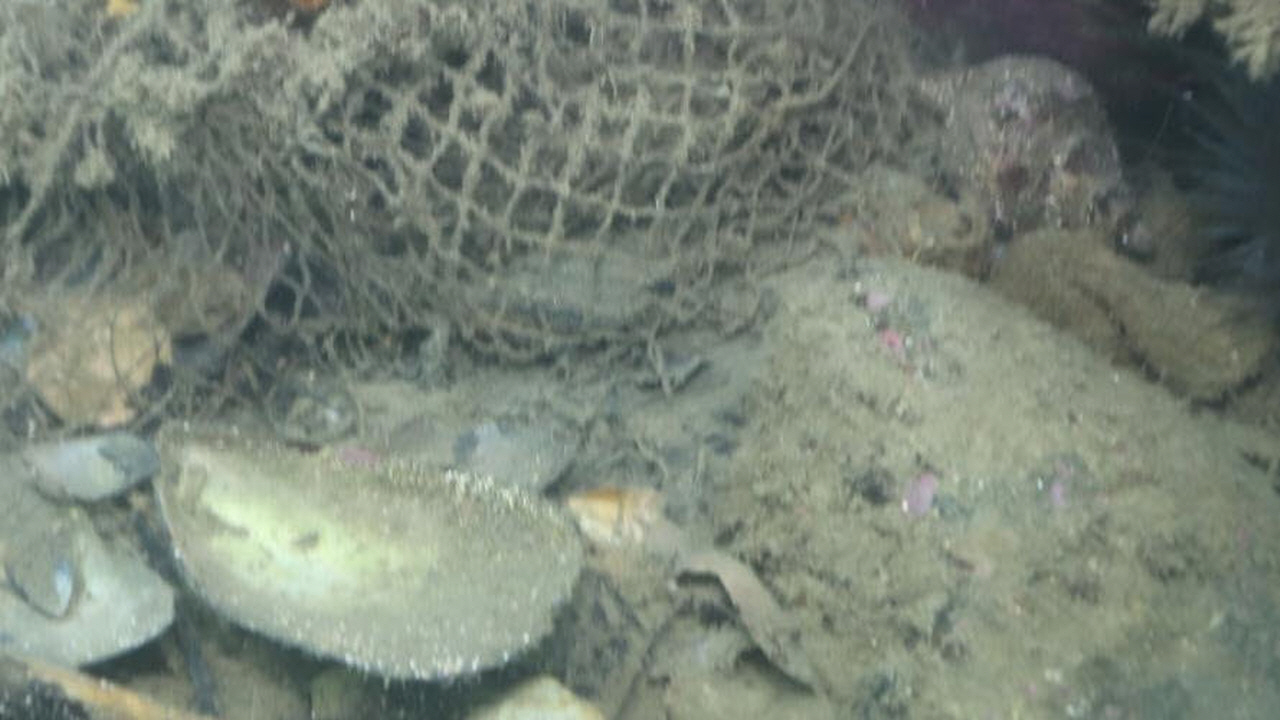fish net: (0, 0, 919, 438)
